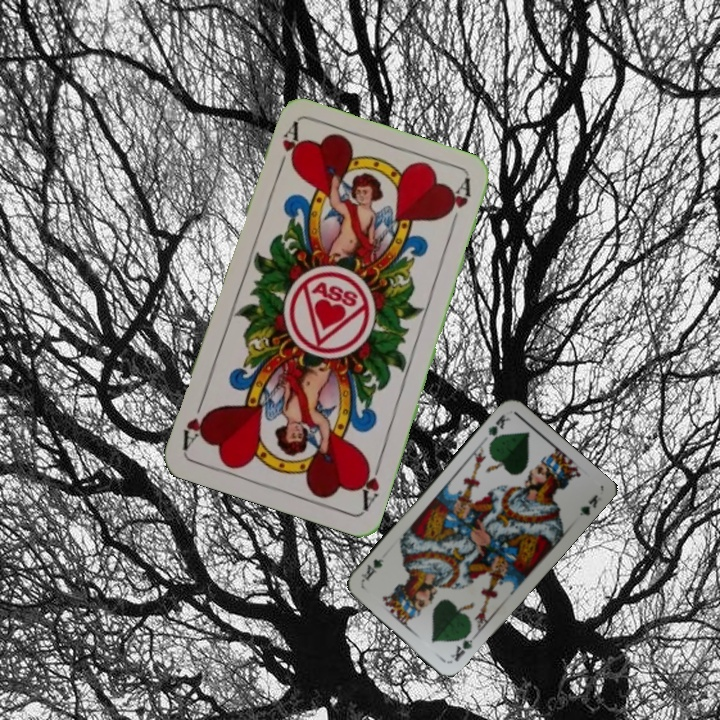GK: (446, 628, 479, 664), (484, 410, 513, 447)
HA: (354, 454, 385, 513), (273, 120, 302, 178)
